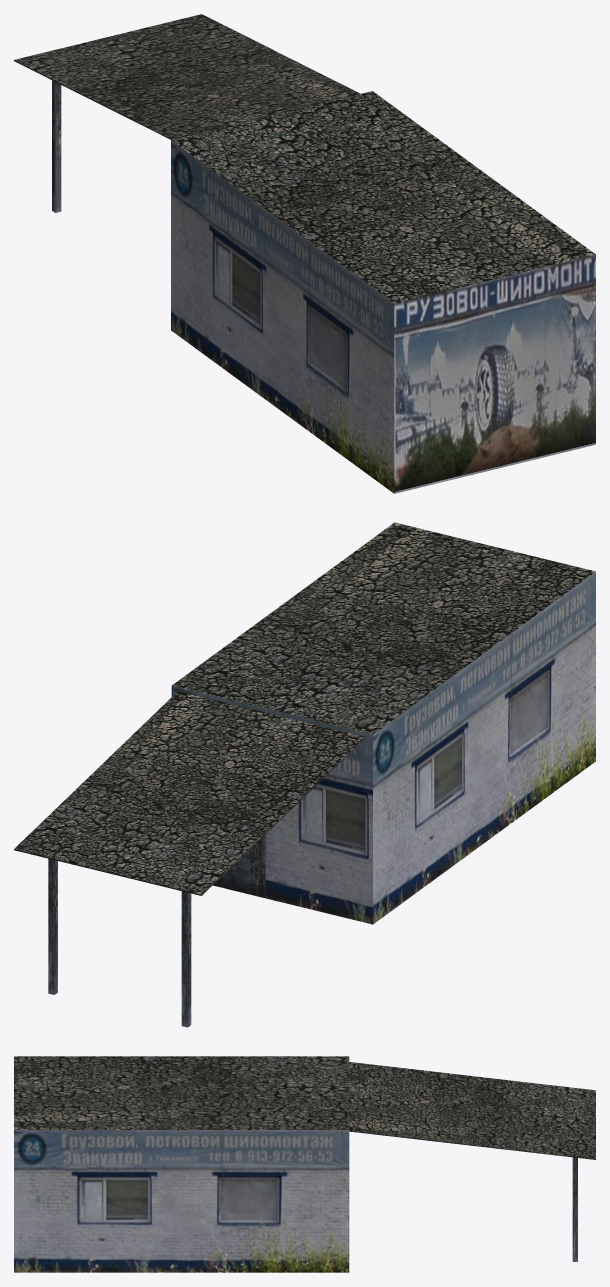
The model's file is r402_shinomontaz_malinovka.FBX.
3 renders of one model, top to bottom at view 1: azimuth 30°, elevation 25°; view 2: azimuth 150°, elevation 25°; view 3: azimuth 270°, elevation 25°, orthographic. The views are drawn at different scales.
Visible parts, largest first — view 1: r402_shinomontaz_malinovka; view 2: r402_shinomontaz_malinovka; view 3: r402_shinomontaz_malinovka.
Part boxes in pixels (x1=…): r402_shinomontaz_malinovka: x1=14, y1=14, x2=595, y2=493; r402_shinomontaz_malinovka: x1=14, y1=522, x2=595, y2=1027; r402_shinomontaz_malinovka: x1=14, y1=1056, x2=595, y2=1272.
Size of the model in its own units: 3.33 by 11.08 by 3.
